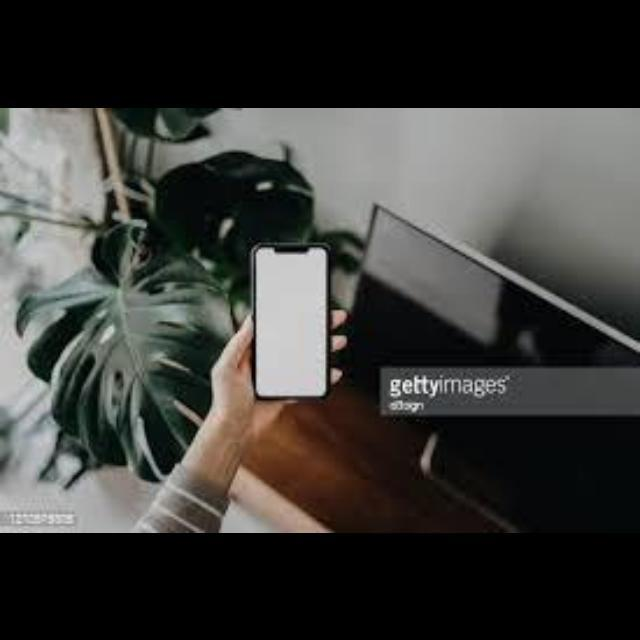Phone: (250, 241, 332, 401)
